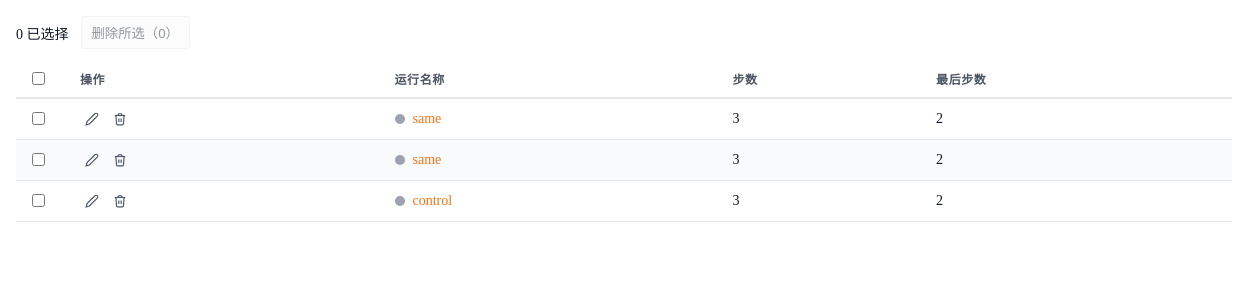
Test: bulk run deletion › translates confirmation and failures while keeping recorded names unchanged
What coordinates should you click on to do the following:
click the 1st button with class "delete-btn"
I would click on:
 (120, 119)
Its box is left=108, top=107, right=132, bottom=131.
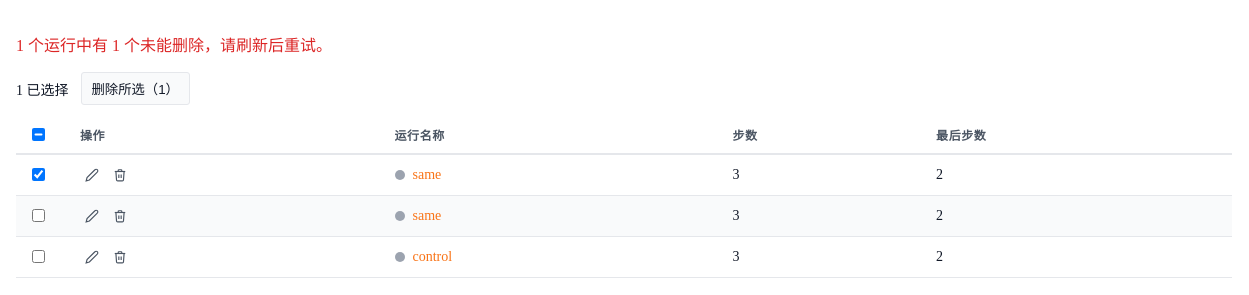
expect the message "1 个运行中有 1 个未能删除，请刷新后重试。" is shown: met, box left=16, top=37, right=332, bottom=54
